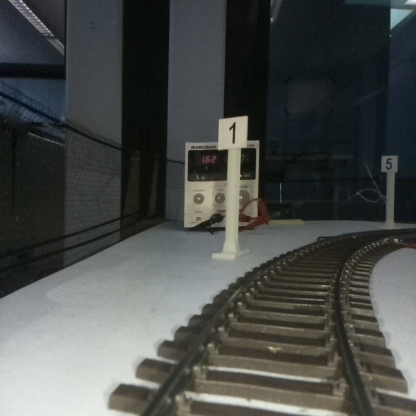white-info-1: (218, 115, 247, 257)
white-info-5: (381, 156, 397, 226)
